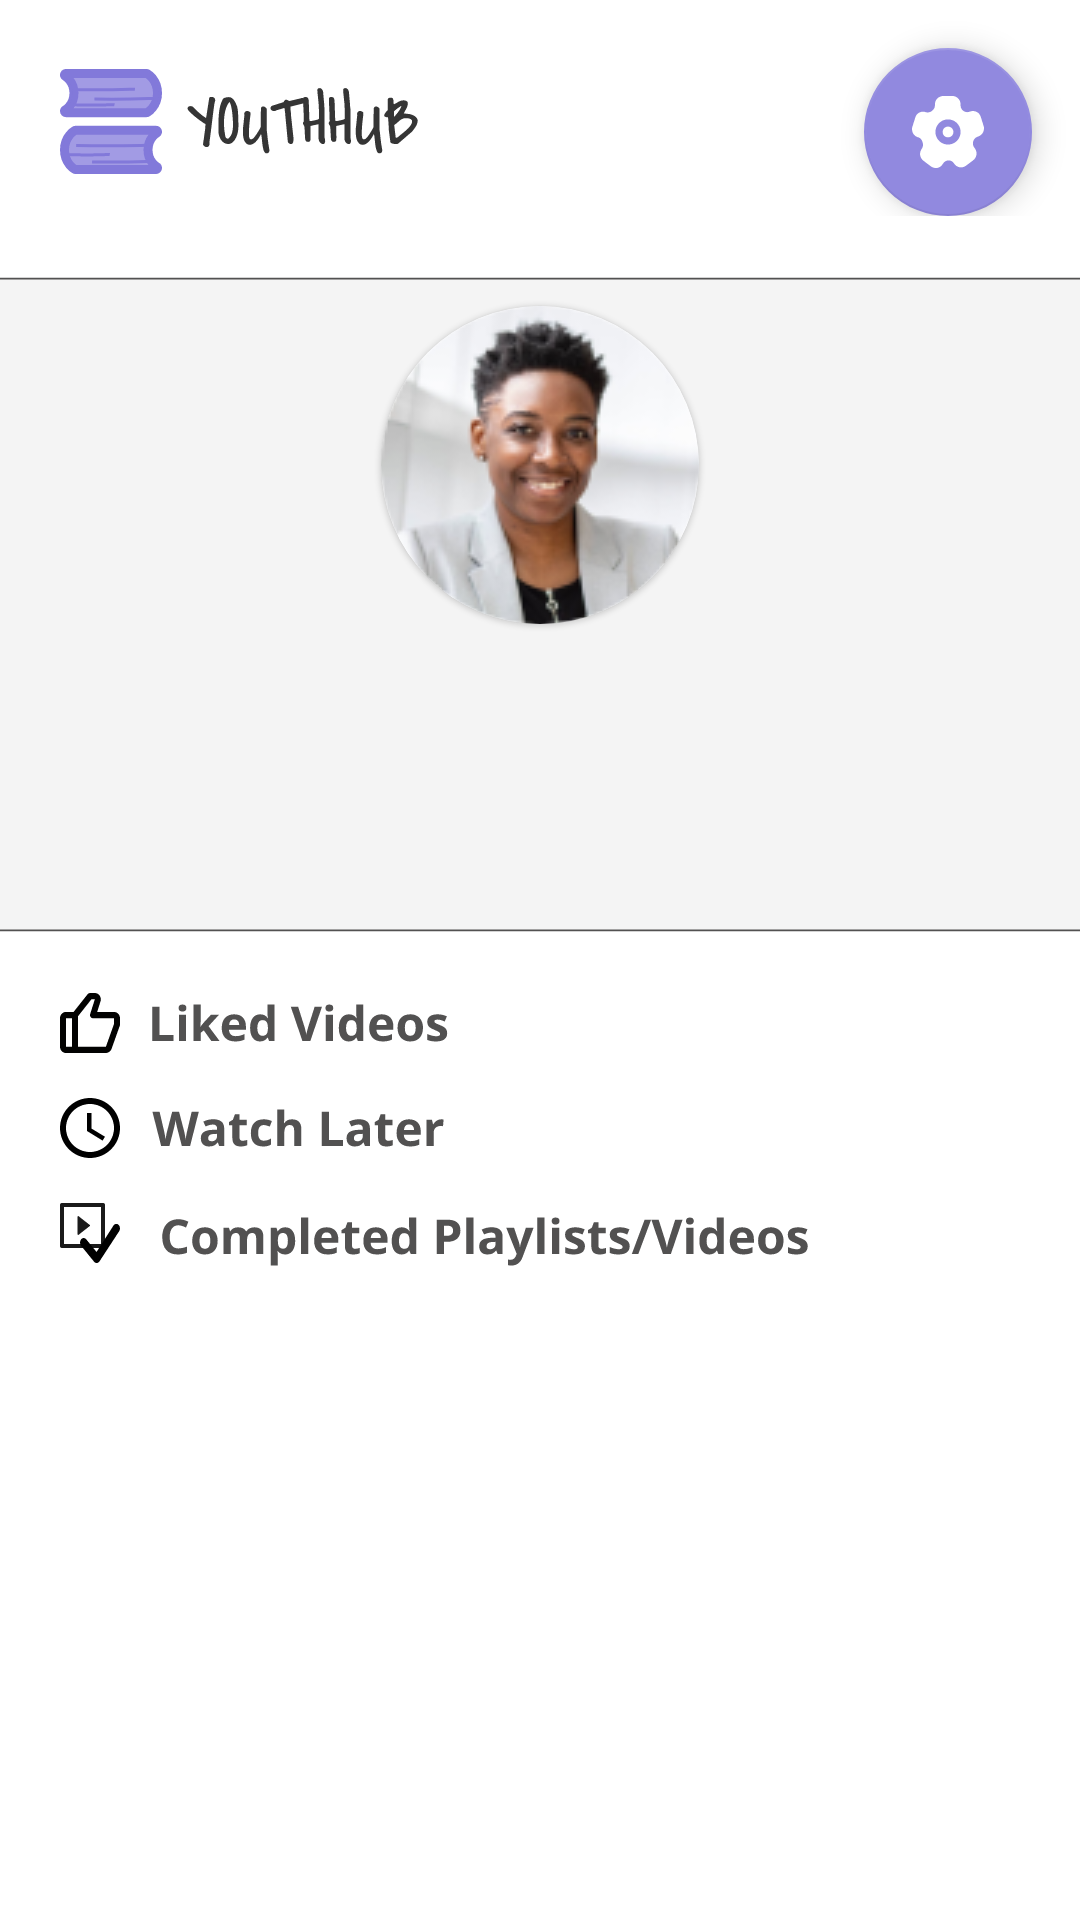

Icon click points for this 1080 × 1920 phone screenshot, format point (x, y):
like: point (90, 1023)
playlist: point (90, 1233)
profilepic: point (540, 471)
settings: point (948, 132)
watchlater: point (90, 1128)
